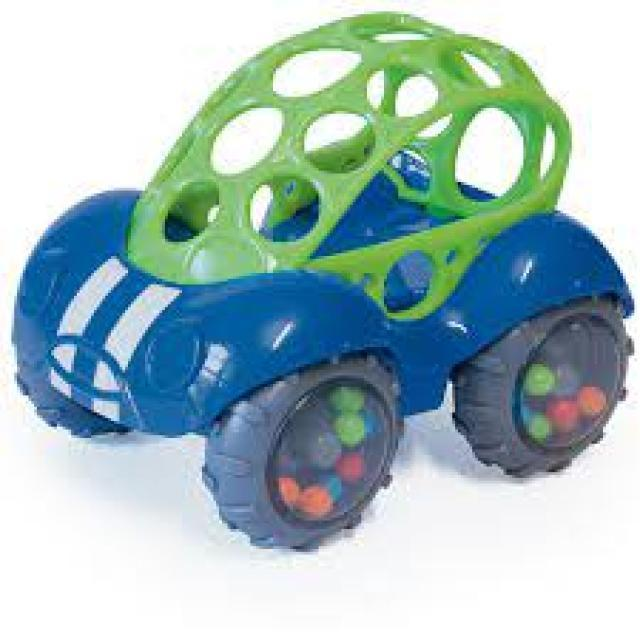hard-toy: (15, 14, 634, 549)
